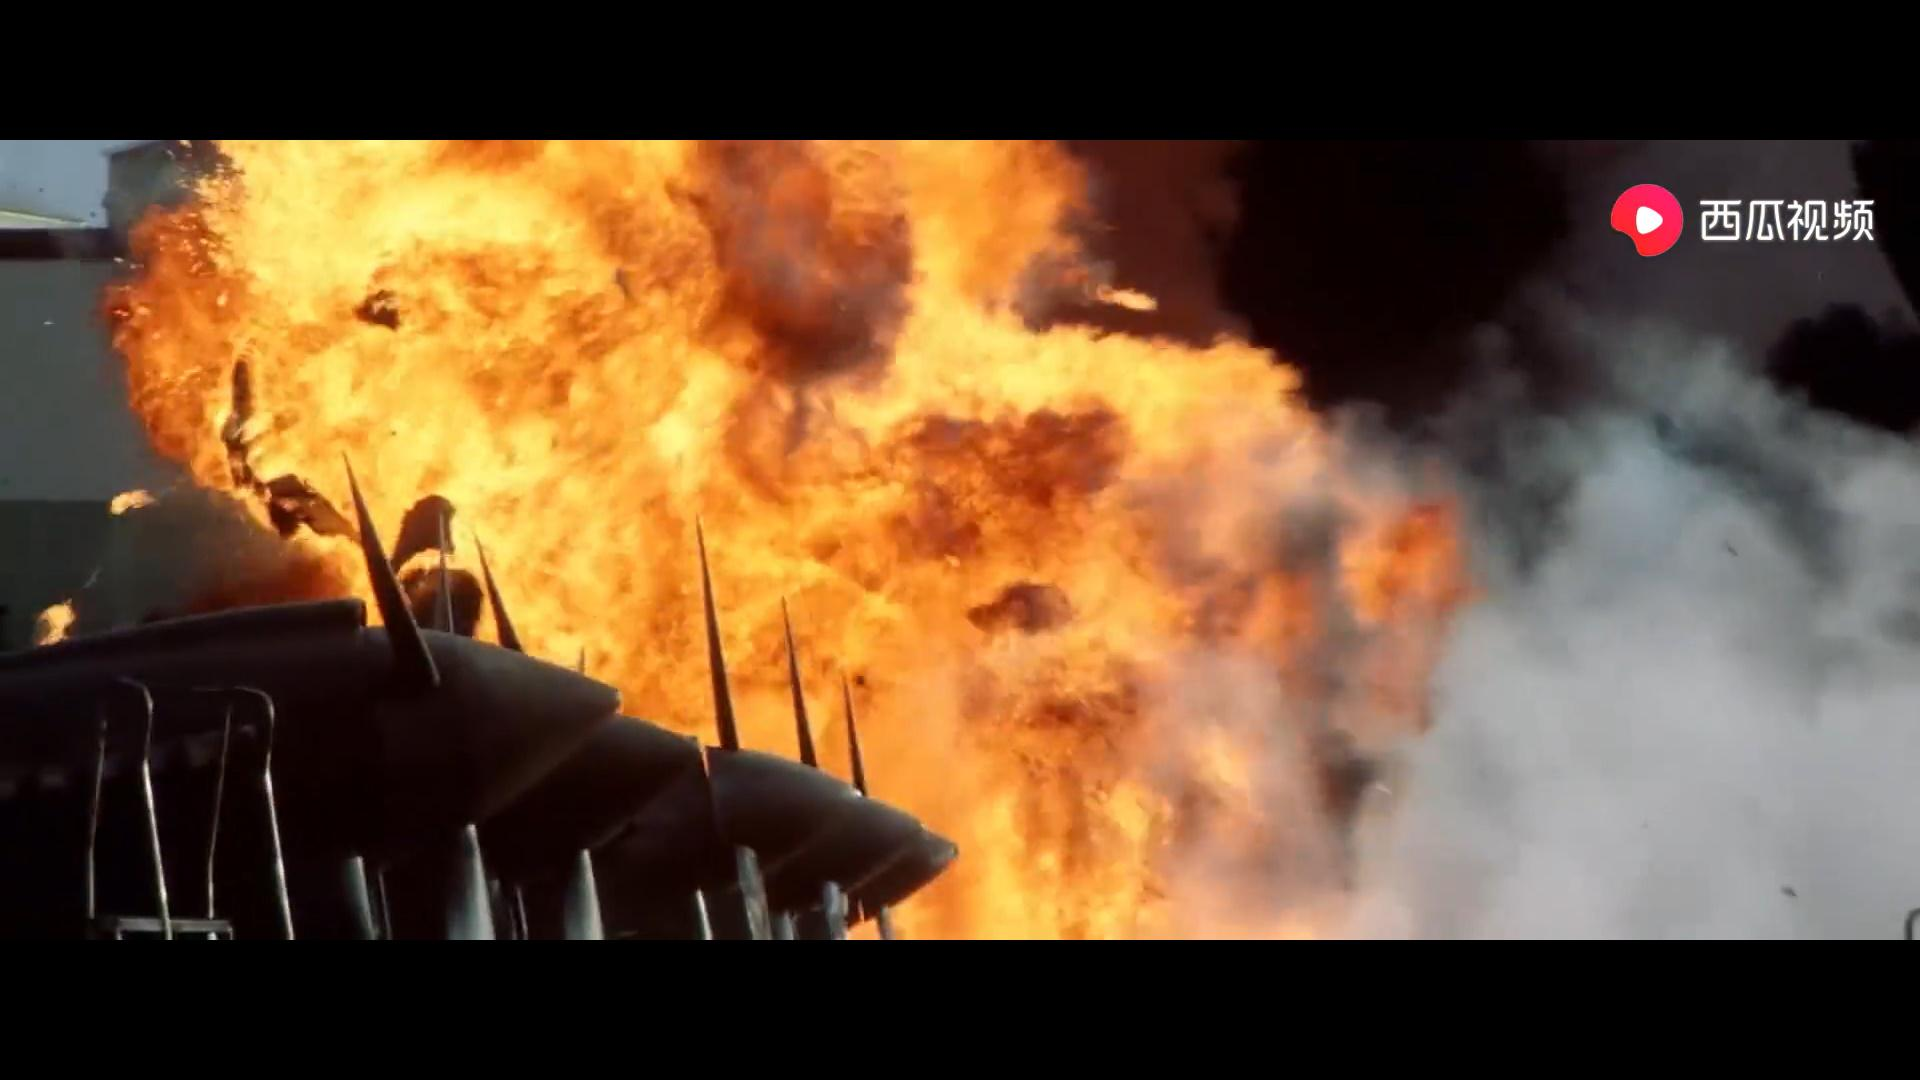fire: (112, 135, 1466, 939)
